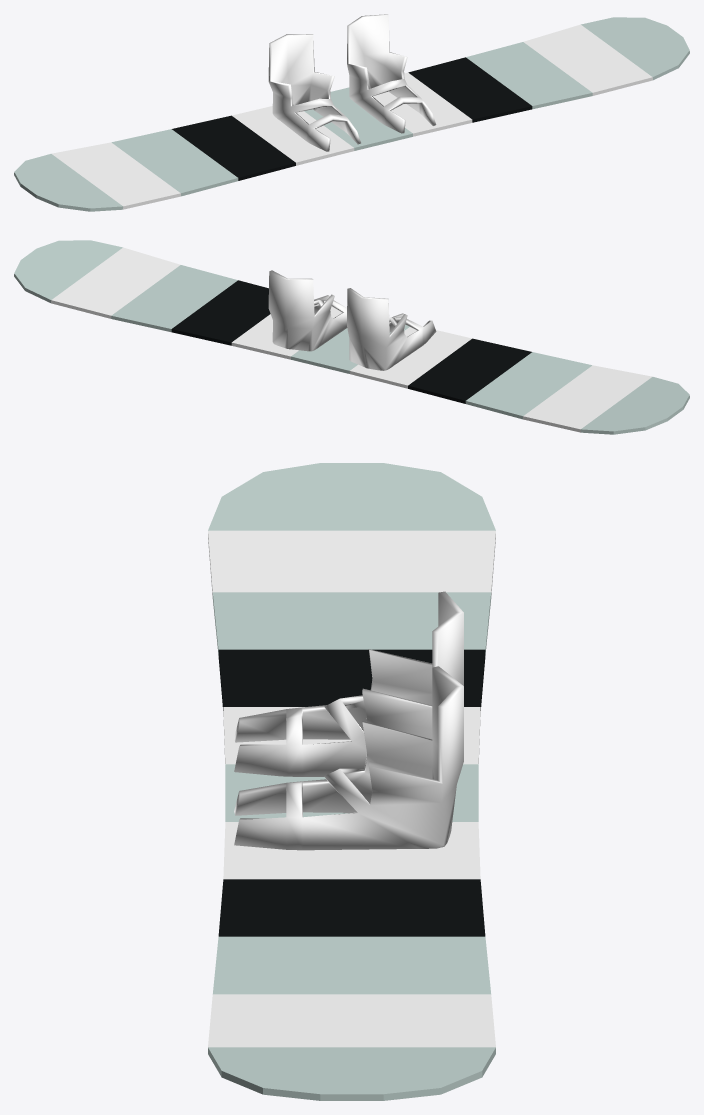
The model's file is Snowboarder_1_Board.fbx.
3 views of the same model, one above another, from view 1: azimuth 30°, elevation 25°; view 2: azimuth 150°, elevation 25°; view 3: azimuth 270°, elevation 25° (orthographic). The views are drawn at different scales.
Parts seen in each view (by area): view 1: Snowboarder_1_Board; view 2: Snowboarder_1_Board; view 3: Snowboarder_1_Board.
Part boxes in pixels (box(x1,y1,x2,y2)): Snowboarder_1_Board: box(14, 14, 689, 211); Snowboarder_1_Board: box(14, 240, 689, 434); Snowboarder_1_Board: box(208, 463, 495, 1100).
Bounding box in the file's own units: 200 × 22.17 × 38.55.
